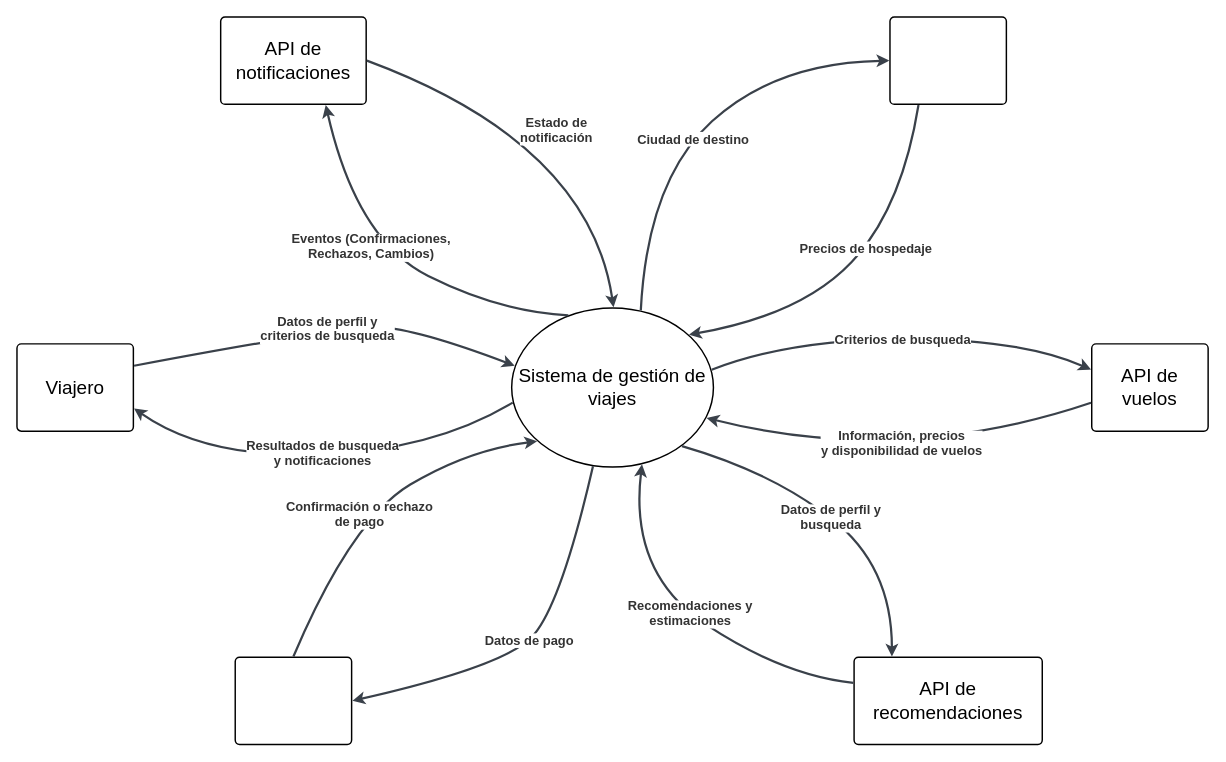
Image size: 1226x762. Some labels were removed from this diagram. Here are the shapes that lost their labels. From the top down, the centre of each, then its label:
(x=948, y=60): API de hoteles
(x=293, y=700): API de pagos
